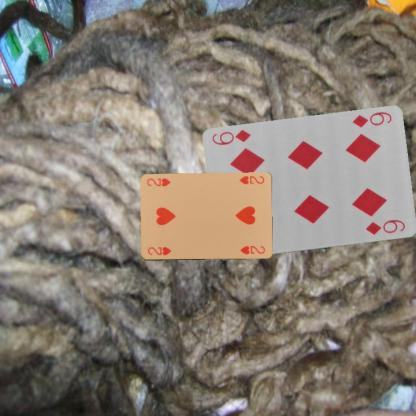2h: (237, 174, 265, 186), (145, 245, 172, 256)
6d: (349, 109, 393, 129)
